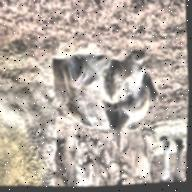boar: (42, 26, 164, 154)
